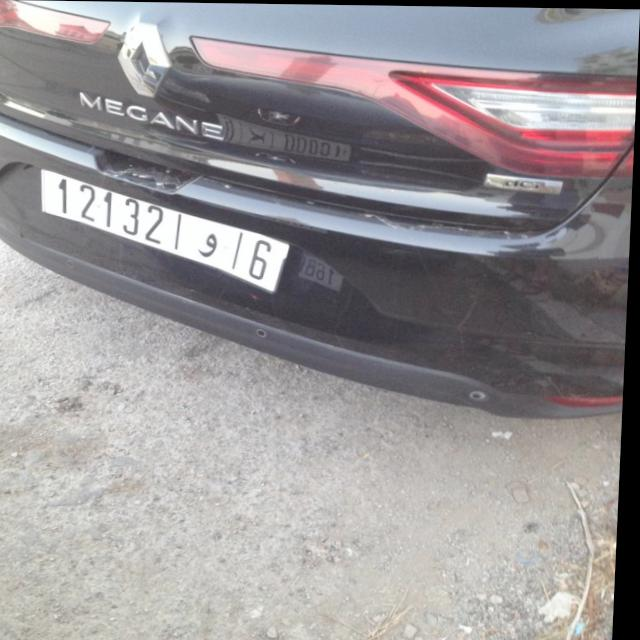License-Plate: (42, 169, 291, 291)
